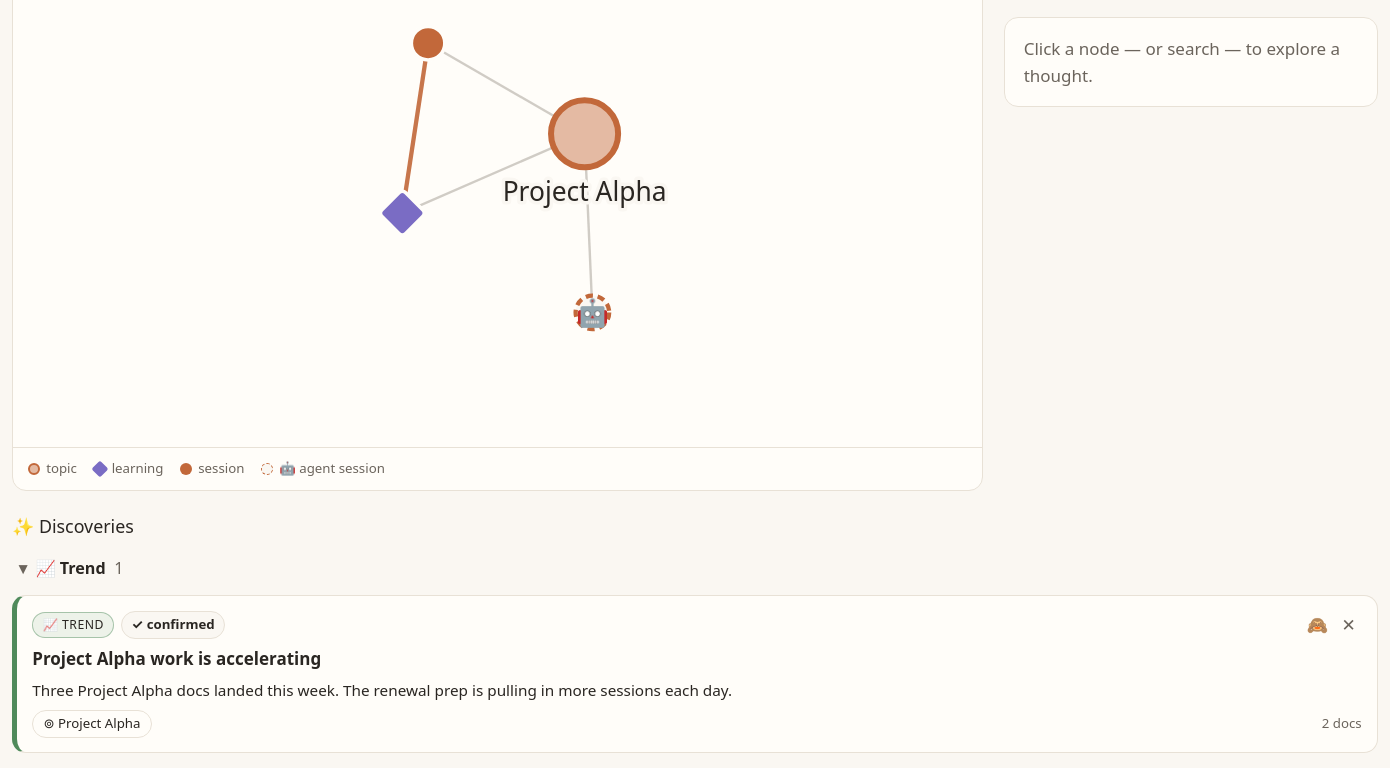
Test: BrainView discoveries › an active search query takes the highlights over the expanded discovery
The image size is (1390, 768).
(page scrolled)
Step 1. Click the button "Project Alpha work is accelerating" → [177, 658], box left=32, top=648, right=1362, bottom=671
(page scrolled)
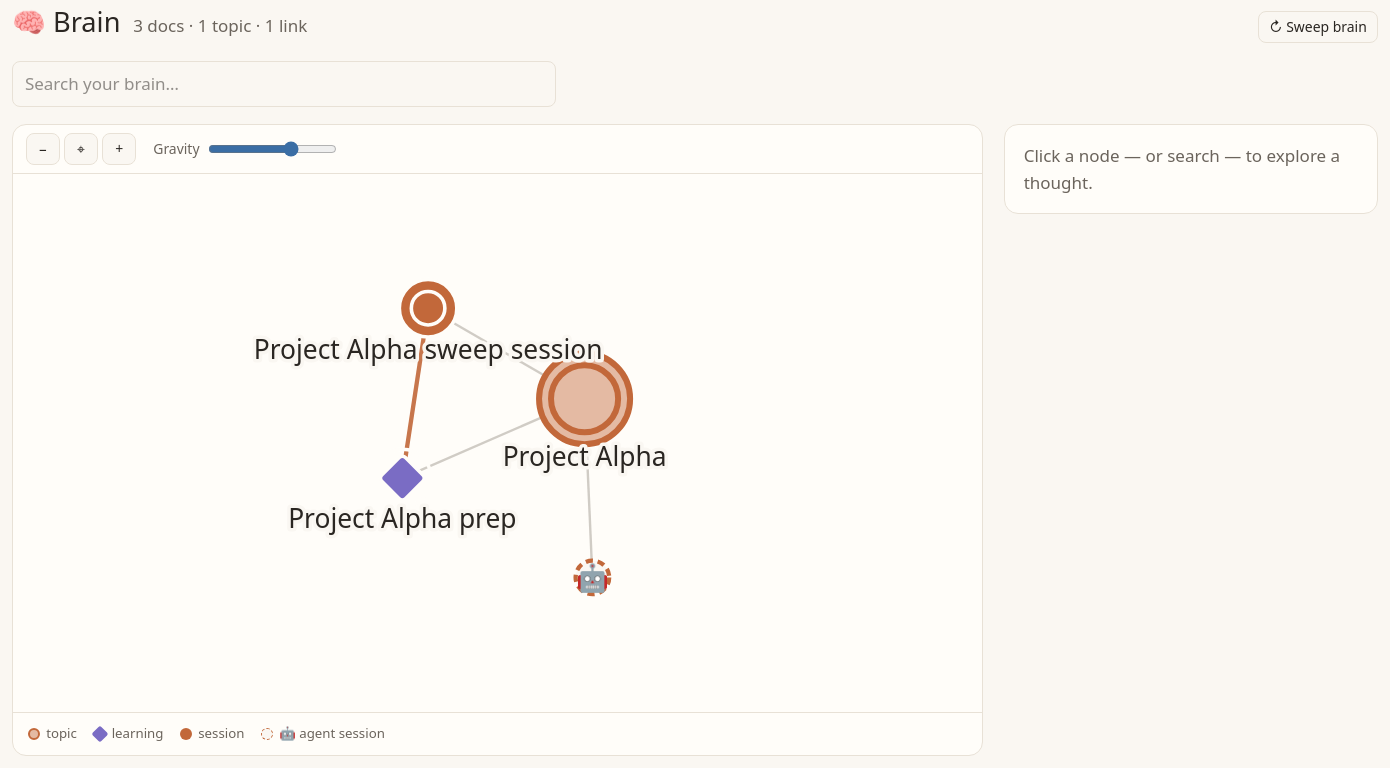
Step 2. Type "project-alpha" into the field with placeholder "Search your brain…" → [284, 84], box left=12, top=60, right=556, bottom=107
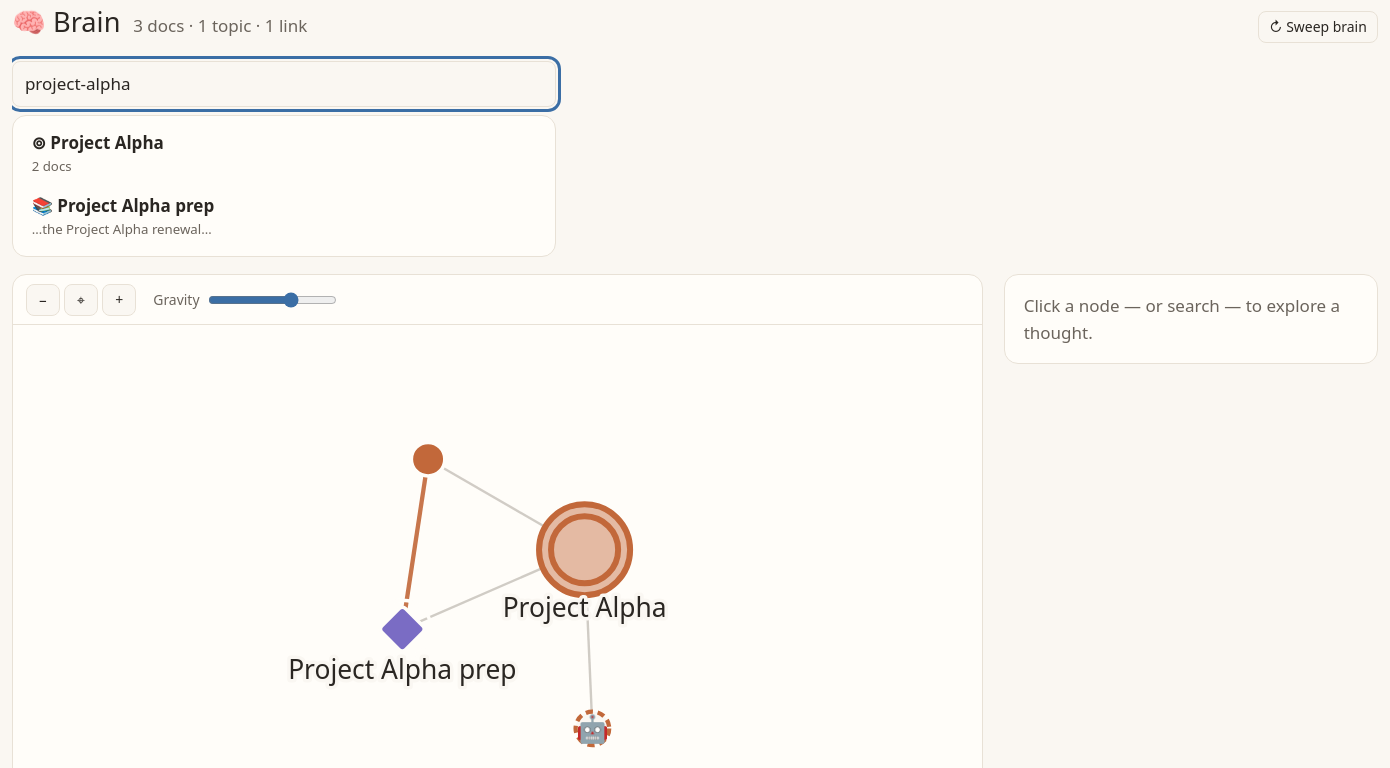
Expected: the list named "Search results" is shown, left=12, top=115, right=556, bottom=257
